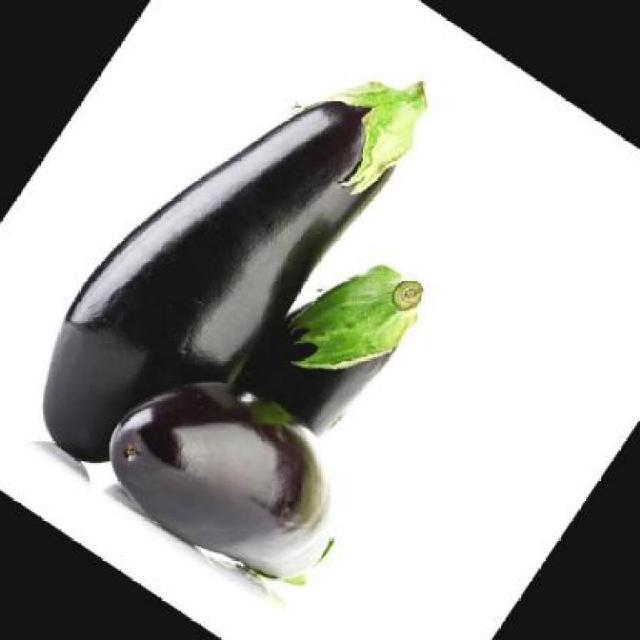eggplant: (34, 64, 448, 518), (82, 339, 380, 616), (237, 230, 437, 450)
